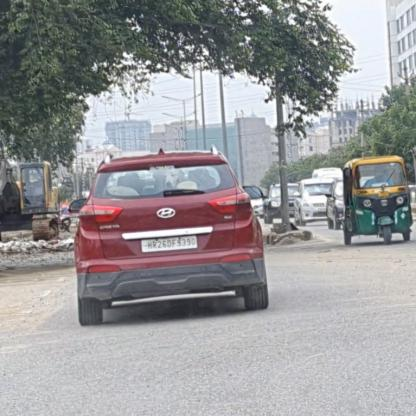car: (68, 146, 270, 325), (294, 177, 341, 229), (264, 183, 301, 224)
